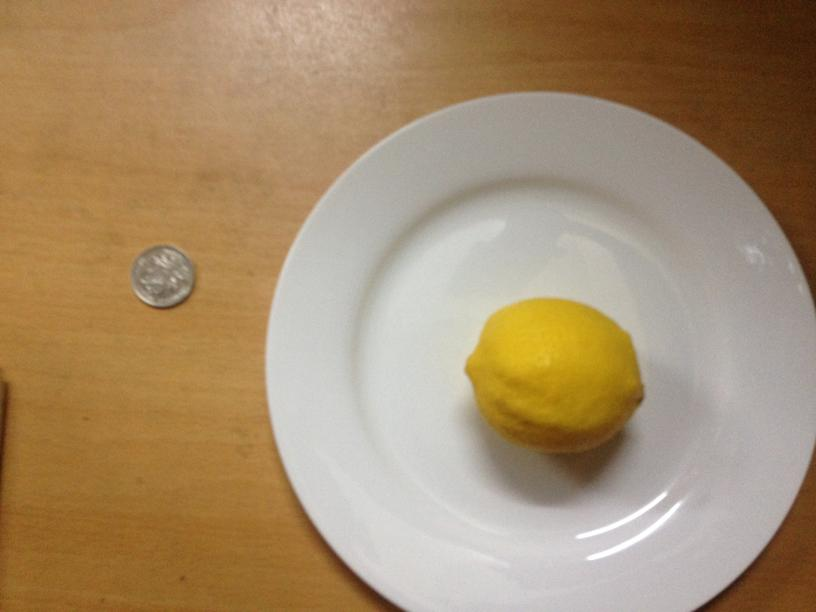coin: (133, 244, 194, 309)
lemon: (468, 297, 643, 451)
